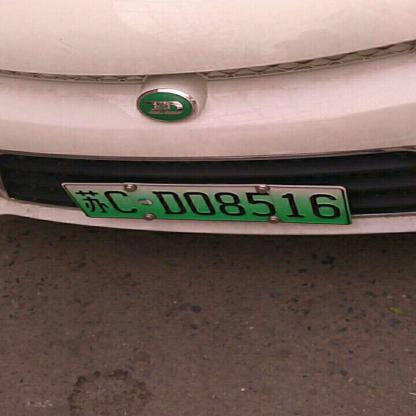lp: (64, 184, 350, 224)
